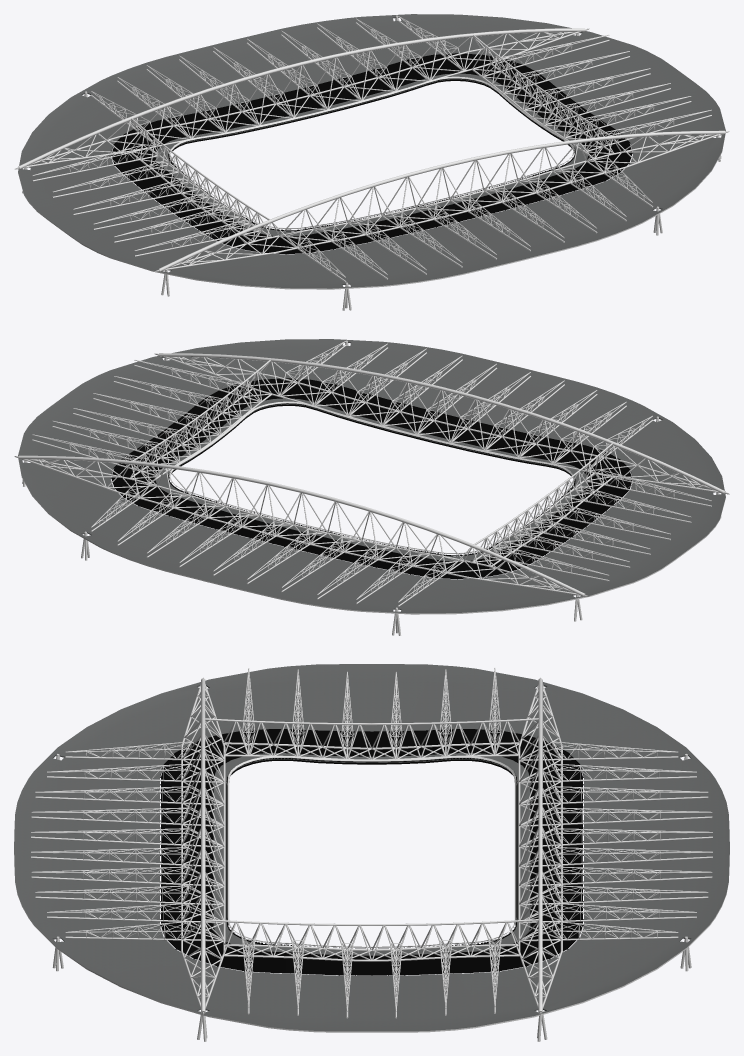
Rendered from Roof.fbx.
The picture shows the model from 3 angles, top to bottom: view 1: azimuth 30°, elevation 25°; view 2: azimuth 150°, elevation 25°; view 3: azimuth 270°, elevation 25°; orthographic projection. The views are drawn at different scales.
Parts seen in each view (by area): view 1: Roof, Roof Scaffolding, Skylight; view 2: Roof, Roof Scaffolding, Skylight; view 3: Roof, Roof Scaffolding, Skylight.
Part boxes in pixels (x1,y1,x2,y2): Roof: [18, 14, 725, 289]; Roof Scaffolding: [14, 15, 729, 310]; Skylight: [110, 53, 633, 254]; Roof: [18, 339, 725, 614]; Roof Scaffolding: [14, 340, 729, 635]; Skylight: [110, 378, 632, 579]; Roof: [14, 664, 729, 1032]; Roof Scaffolding: [31, 668, 712, 1041]; Skylight: [160, 729, 583, 975].
Size of the model in its own units: 9552 by 915 by 7869.
Materials: 11 (2 with a texture image).
